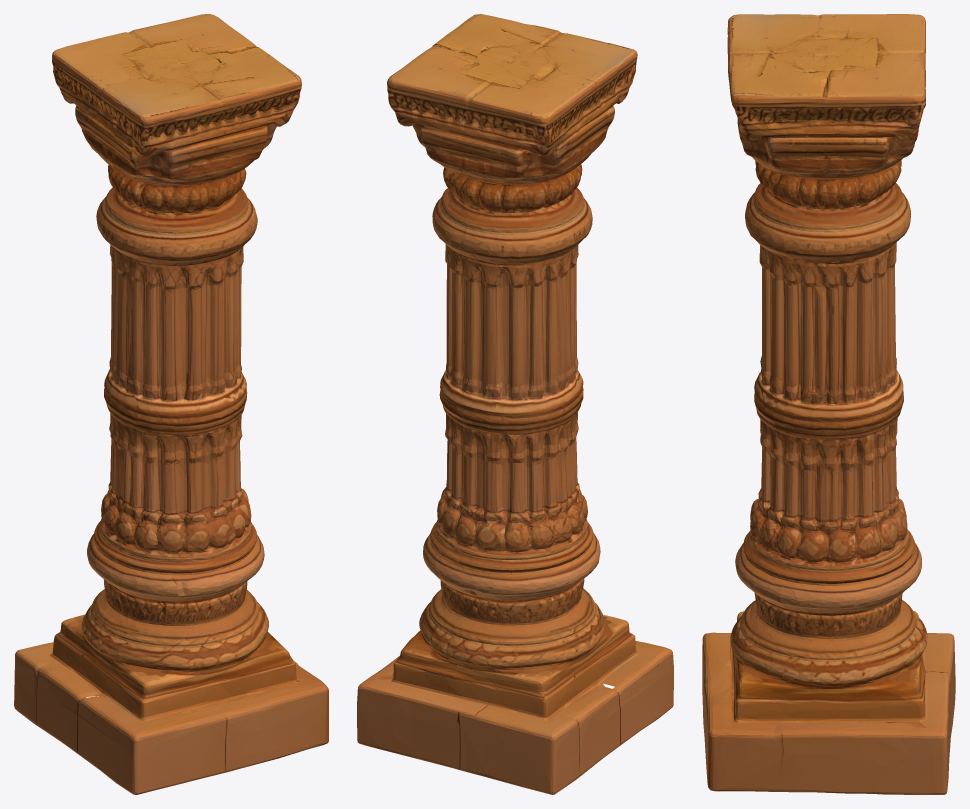
The model's file is chalukyan-lathe-turned-pillar-optimized.glb.
The picture shows the model from 3 angles, left to right: view 1: azimuth 30°, elevation 25°; view 2: azimuth 150°, elevation 25°; view 3: azimuth 270°, elevation 25°; orthographic projection. The views are drawn at different scales.
Parts seen in each view (by area): view 1: dcbb1ddd-5418-4a53-af2e-0c52e191911d_texturing.obj; view 2: dcbb1ddd-5418-4a53-af2e-0c52e191911d_texturing.obj; view 3: dcbb1ddd-5418-4a53-af2e-0c52e191911d_texturing.obj.
Part boxes in pixels (left/top/right/bottom): dcbb1ddd-5418-4a53-af2e-0c52e191911d_texturing.obj: left=14, top=14, right=328, bottom=794; dcbb1ddd-5418-4a53-af2e-0c52e191911d_texturing.obj: left=357, top=14, right=673, bottom=794; dcbb1ddd-5418-4a53-af2e-0c52e191911d_texturing.obj: left=702, top=14, right=955, bottom=794.
Bounding box in the file's own units: 1.12 × 3.5 × 1.16.
Materials: 1 (1 with a texture image).
